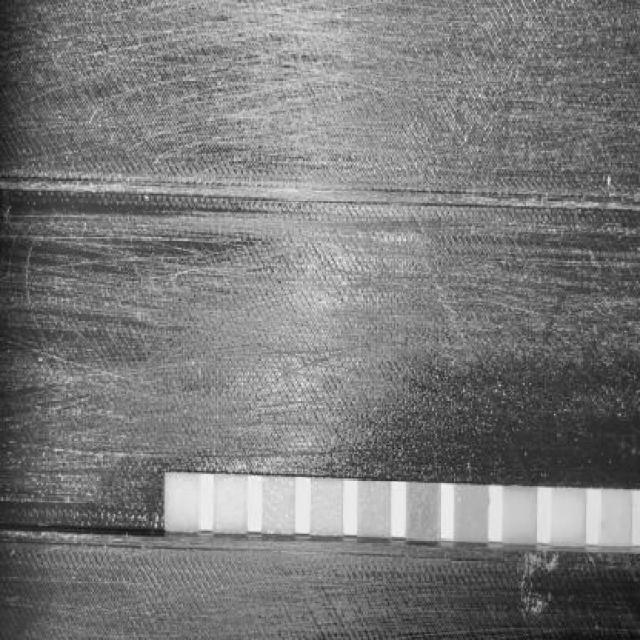Bilirubin: (554, 491, 584, 546)
Blood: (408, 481, 438, 540)
Glucose: (602, 490, 632, 546)
Ketone: (506, 486, 536, 544)
Leukocytes: (165, 473, 199, 532)
Nitrite: (214, 476, 246, 533)
Protein: (312, 479, 342, 536)
SpGravity: (456, 486, 488, 542)
Urobilinogen: (264, 477, 294, 534)
background: (0, 0, 640, 640)
pH: (358, 480, 390, 538)
strip: (164, 472, 638, 547)
